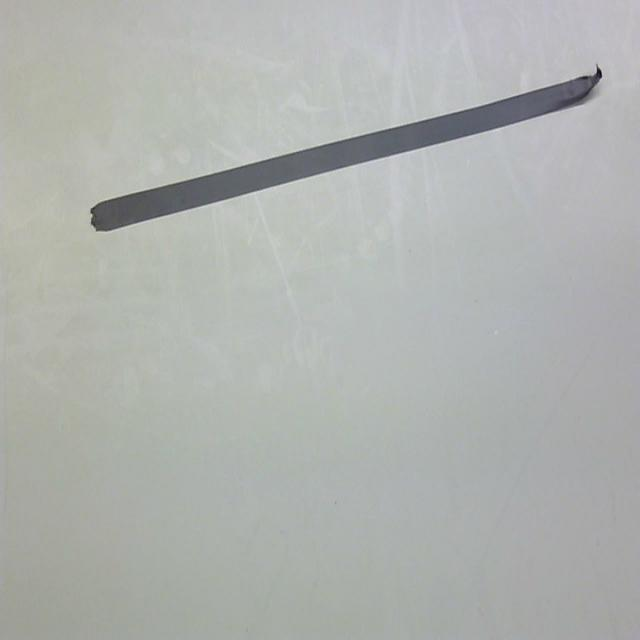tape: (82, 43, 616, 263)
